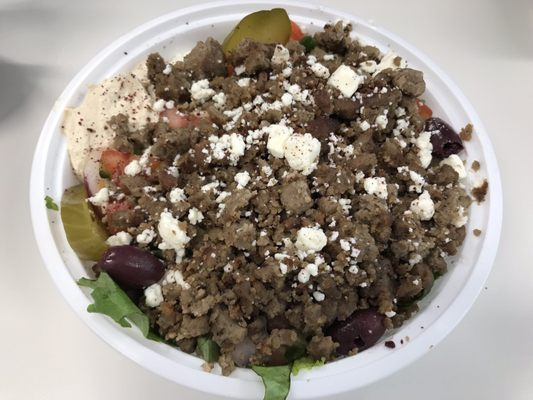sushi: (56, 1, 493, 390)
